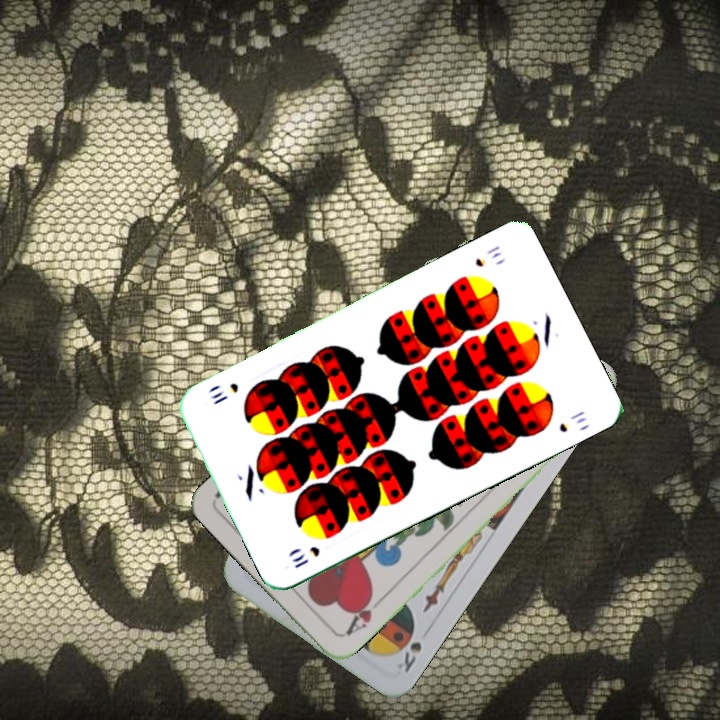HA: (341, 588, 386, 639)
S10: (288, 542, 323, 571), (471, 241, 504, 270)
SK: (393, 637, 425, 675)
